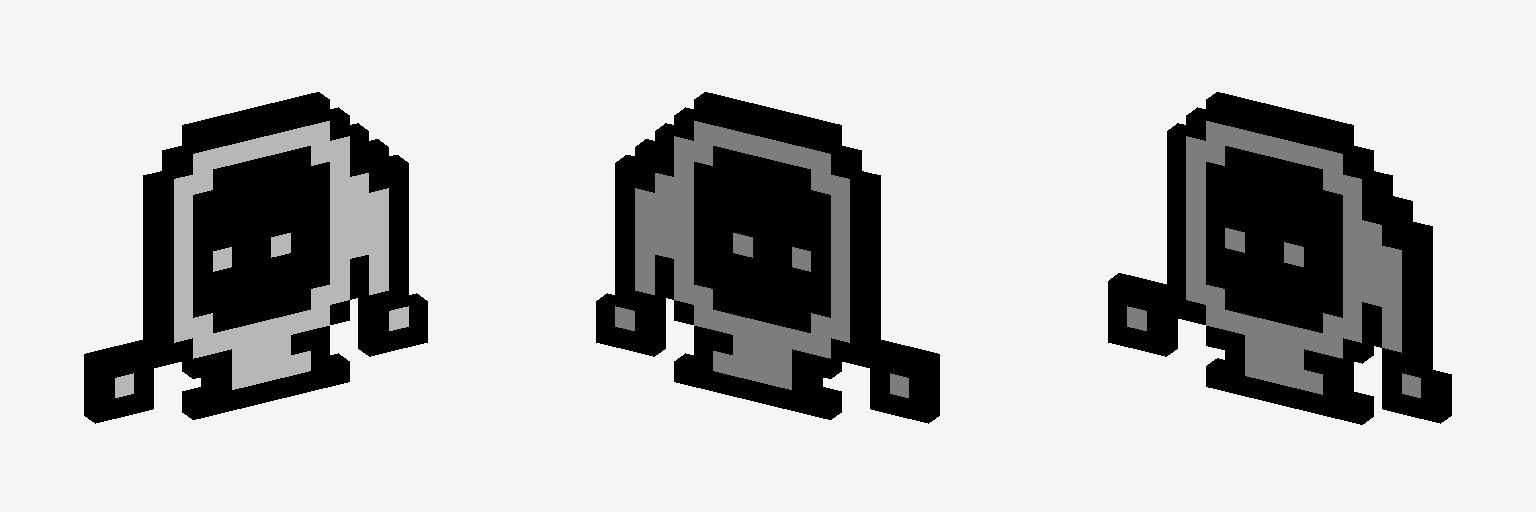
3 views of the same model, side by side, from view 1: azimuth 30°, elevation 25°; view 2: azimuth 150°, elevation 25°; view 3: azimuth 330°, elevation 25° (orthographic).
Visible parts, largest first — view 1: object 1; view 2: object 1; view 3: object 1.
Boxes of the visible parts, x1,y1,x2,y2 form: object 1: [84, 92, 427, 423]; object 1: [596, 92, 939, 423]; object 1: [1108, 92, 1451, 424].
Bounding box in the file's own units: 1.7 × 1.4 × 0.1.
1 materials, 1 textured.